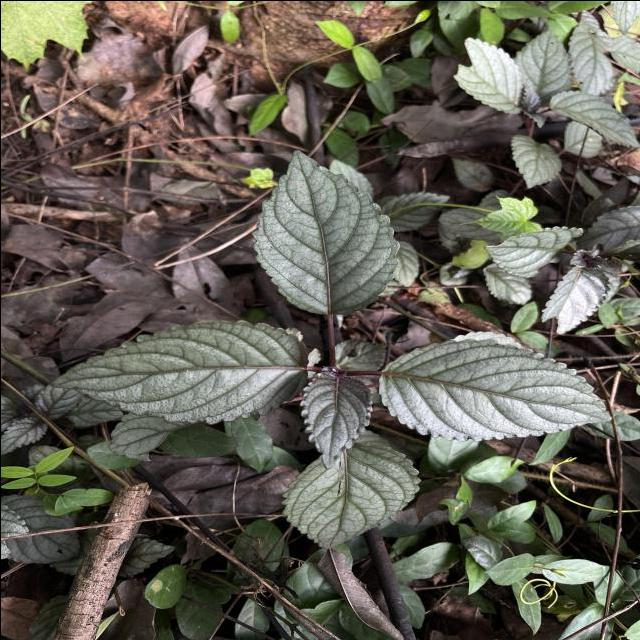Hemigraphis colorata: (46, 316, 310, 426), (248, 145, 401, 318), (376, 334, 614, 442), (277, 440, 423, 551), (298, 368, 374, 470), (479, 222, 585, 278), (547, 86, 640, 149), (538, 262, 612, 334)
